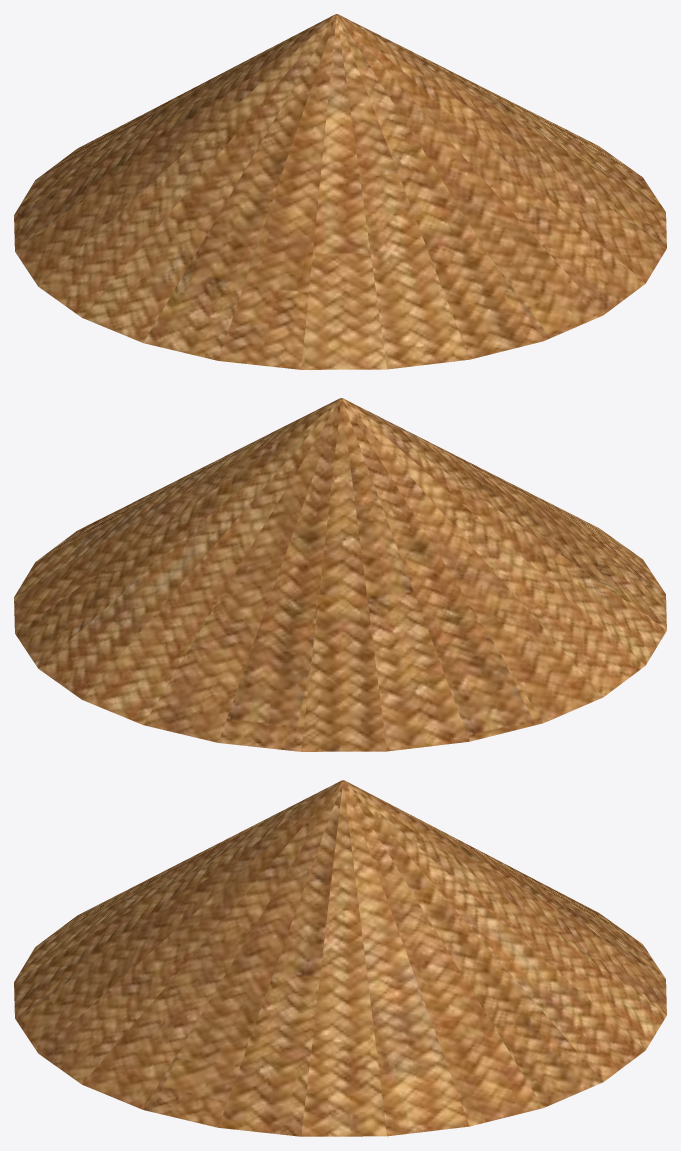
File: hat_rice.obj
3 views of the same model, one above another, from view 1: azimuth 30°, elevation 25°; view 2: azimuth 150°, elevation 25°; view 3: azimuth 270°, elevation 25° (orthographic).
Visible parts, largest first — view 1: Mesh1 Untitled__6_1 Model; view 2: Mesh1 Untitled__6_1 Model; view 3: Mesh1 Untitled__6_1 Model.
Part boxes in pixels (x1,y1,x2,y2): Mesh1 Untitled__6_1 Model: (14,14,666,369); Mesh1 Untitled__6_1 Model: (14,398,666,751); Mesh1 Untitled__6_1 Model: (14,780,666,1136).
Size of the model in its own units: 178 by 65 by 178.
1 material, 1 textured.
